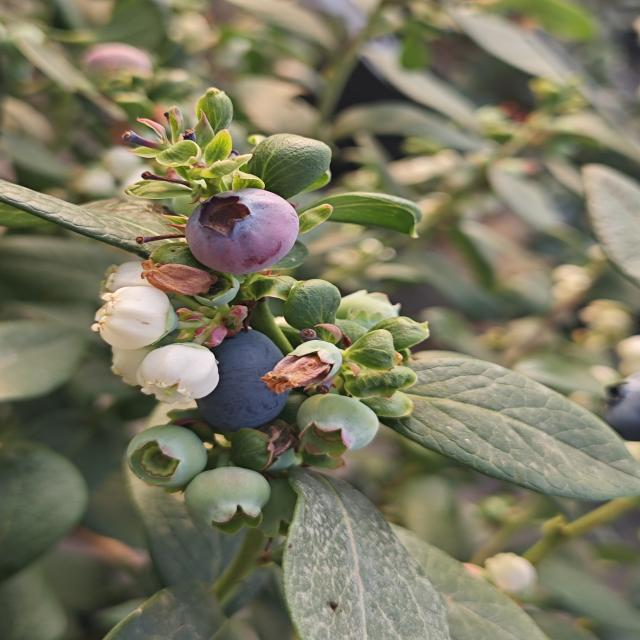ripe: (181, 186, 303, 277), (192, 326, 292, 434), (592, 366, 640, 446)
